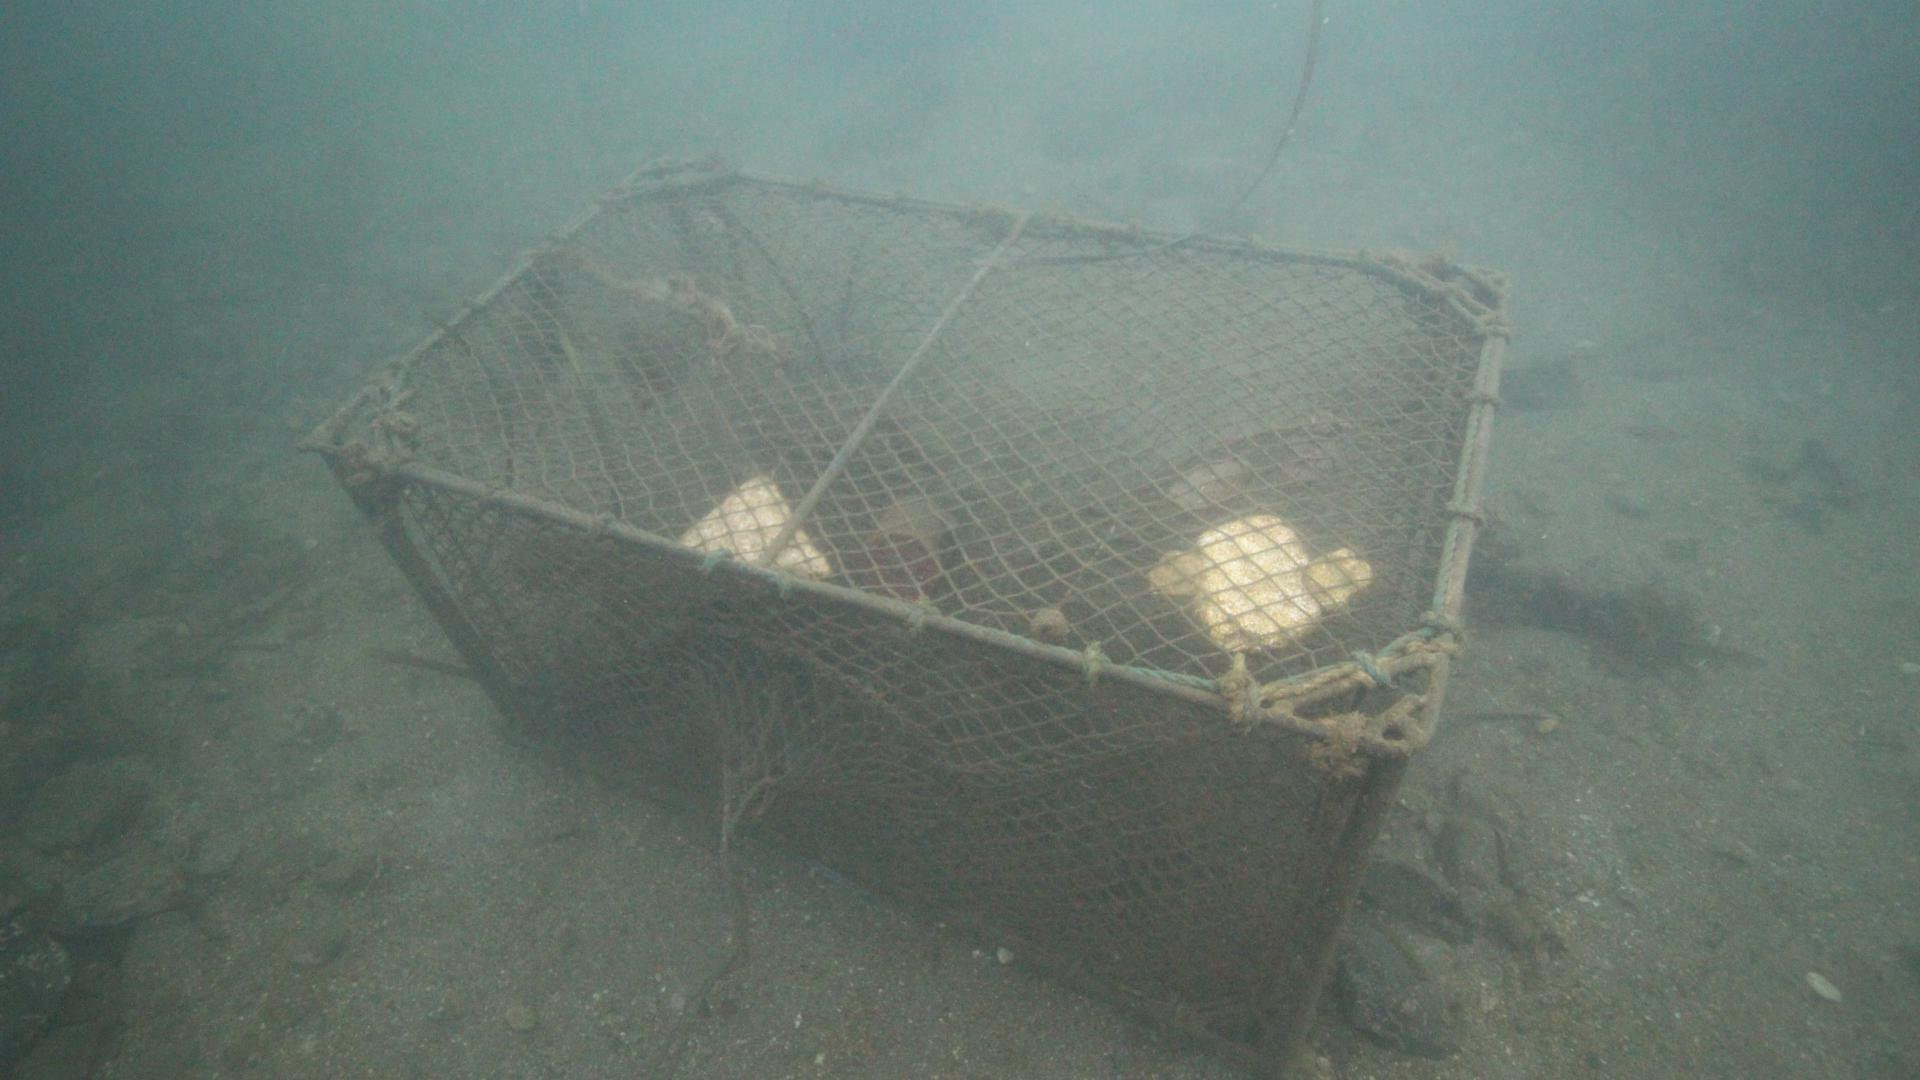rectangular fish trap: (295, 146, 1515, 1077)
